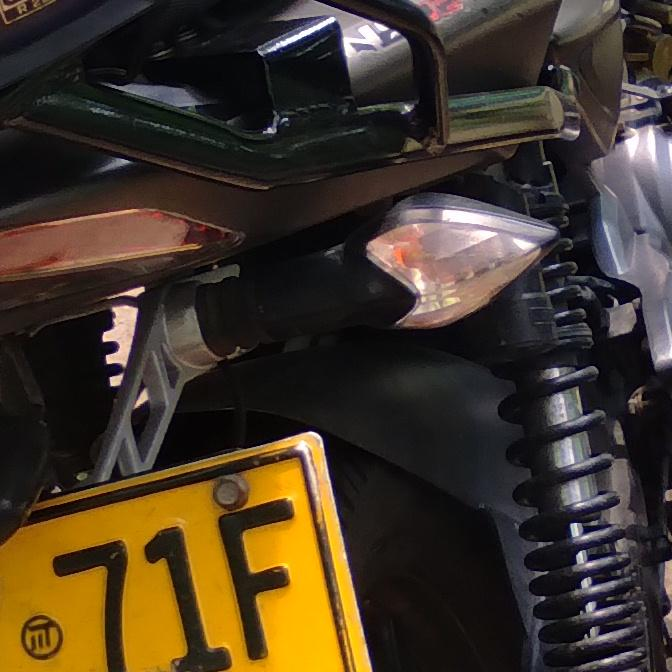plates: (0, 436, 376, 672)
